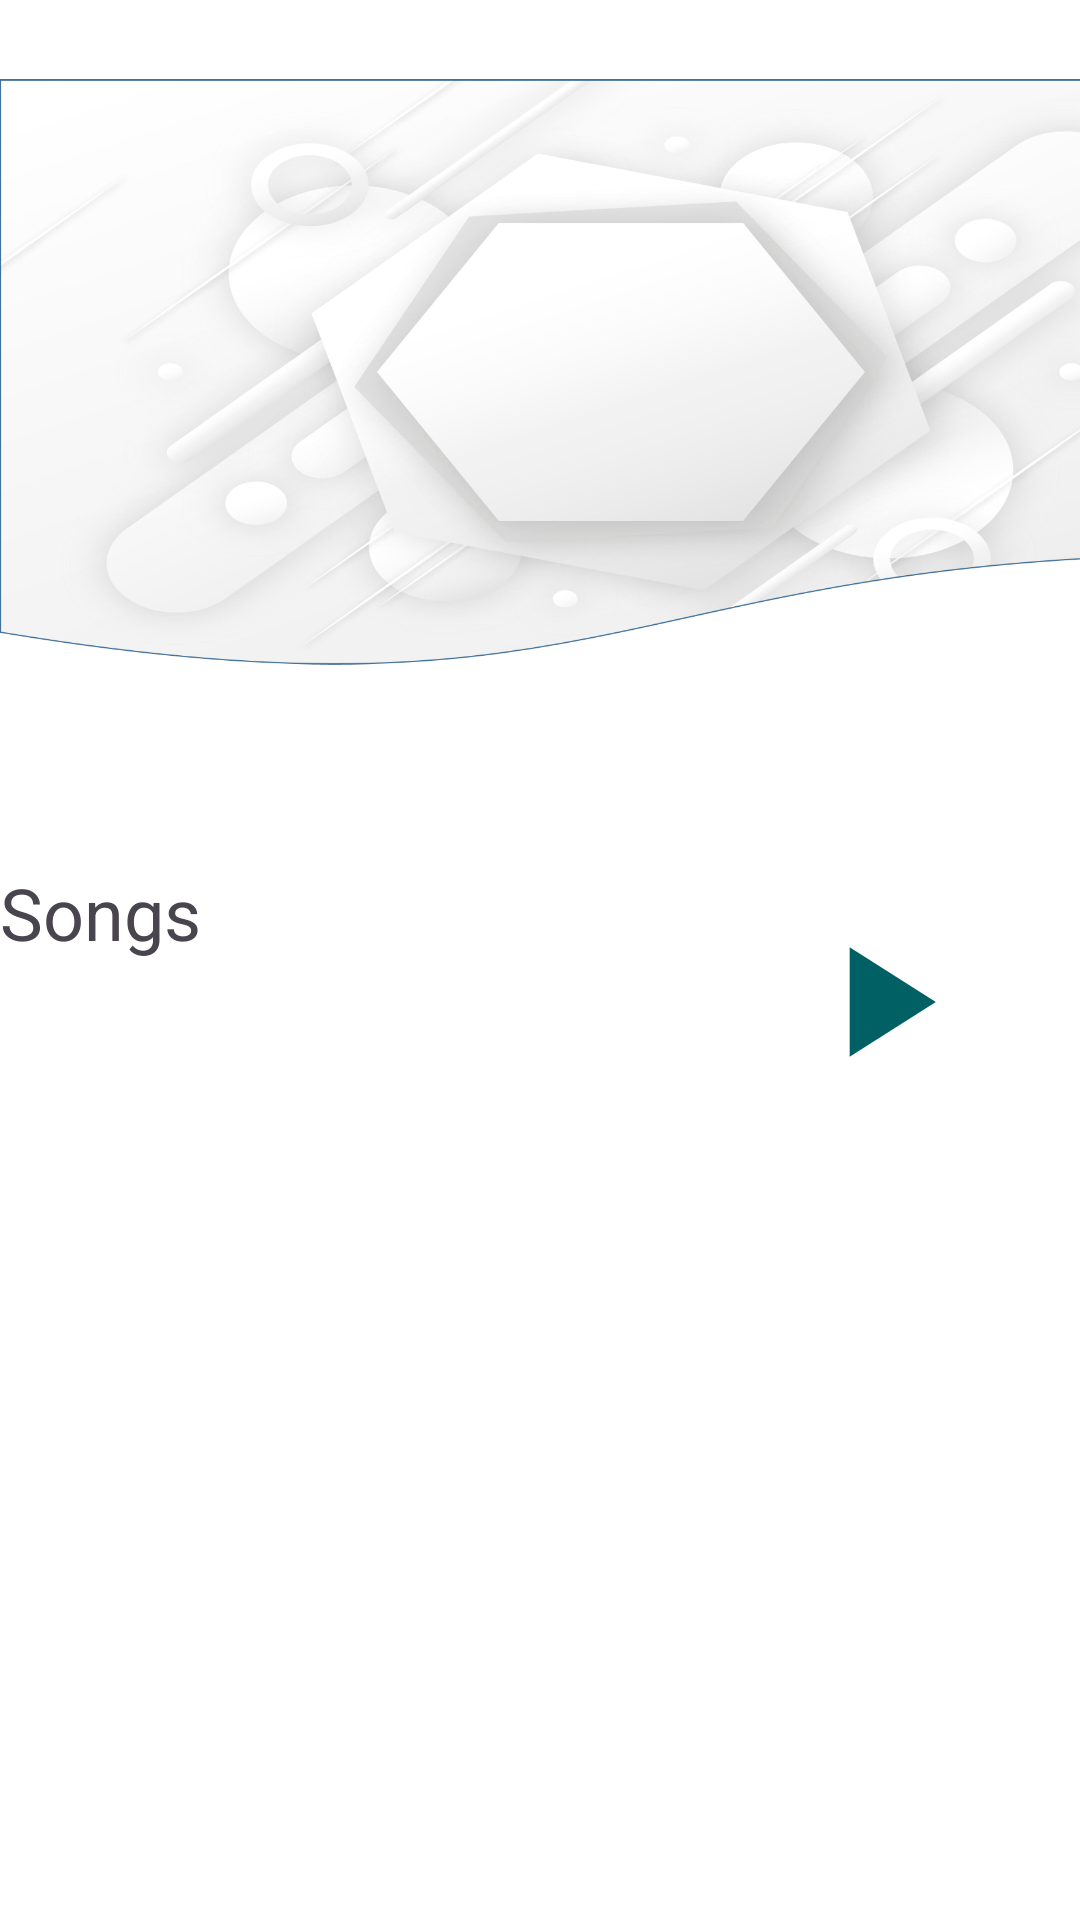

Icons on this 1080×1920 Android screen, each with the point to tap as [x,y]:
play: [892,1002]
